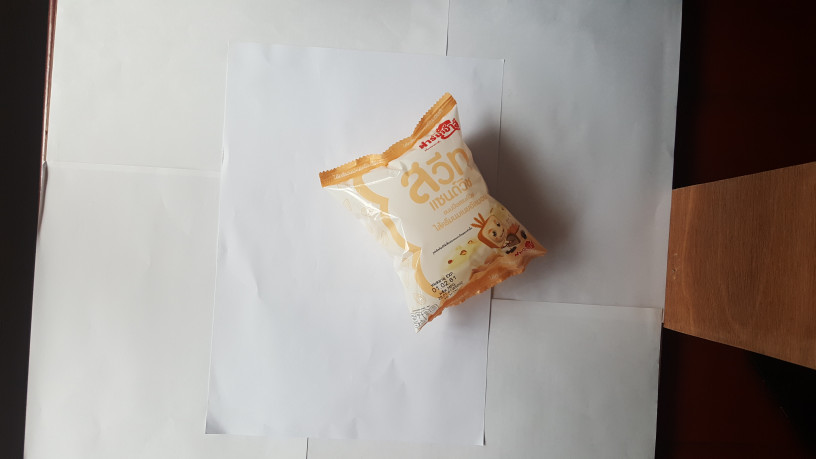farmhouse-sweetsandwich-almond: (315, 85, 552, 338)
